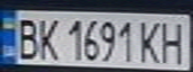1: (115, 18, 139, 63), (63, 16, 84, 61)
6: (81, 16, 103, 62)
9: (97, 17, 118, 62)
B: (12, 15, 42, 61)
H: (157, 18, 190, 64)
K: (136, 17, 163, 64), (33, 15, 60, 61)
